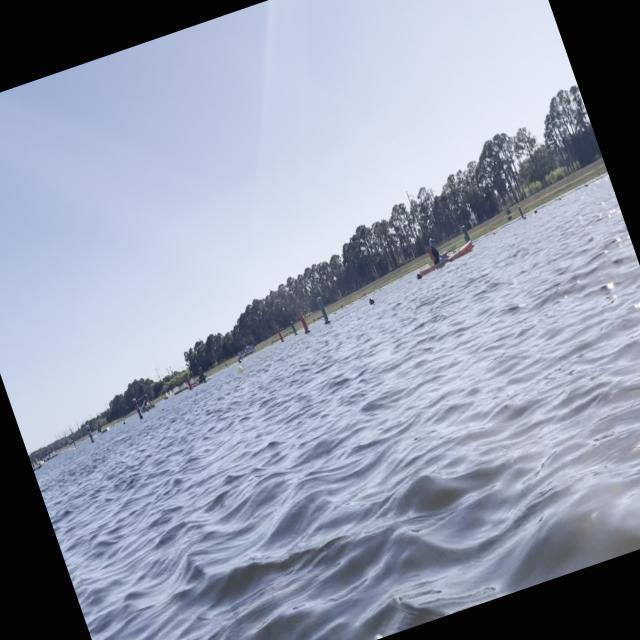buoy: (366, 296, 374, 305), (416, 271, 422, 280), (236, 364, 242, 372)
